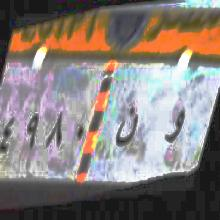0: (76, 118, 86, 149)
4: (0, 108, 15, 156)
8: (45, 109, 64, 153)
9: (24, 109, 40, 151)
noon: (115, 100, 138, 156)
waw: (160, 102, 186, 148)
